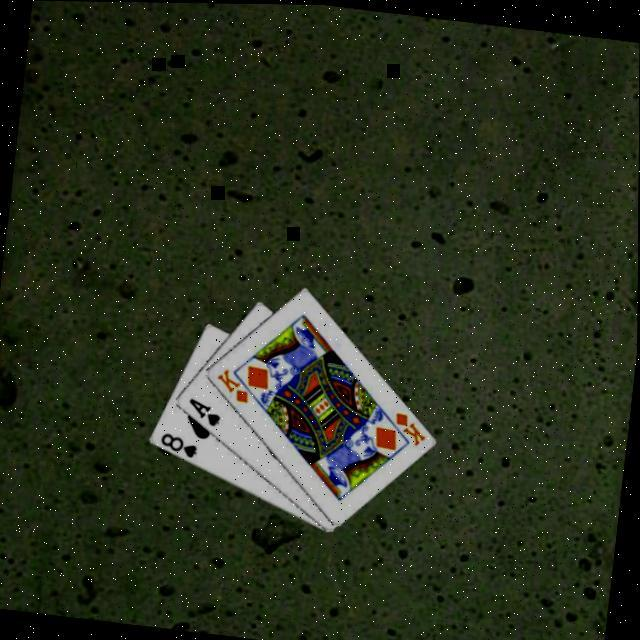8S: (158, 427, 203, 459)
AS: (186, 393, 227, 427)
KD: (213, 362, 256, 404), (390, 406, 433, 448)
